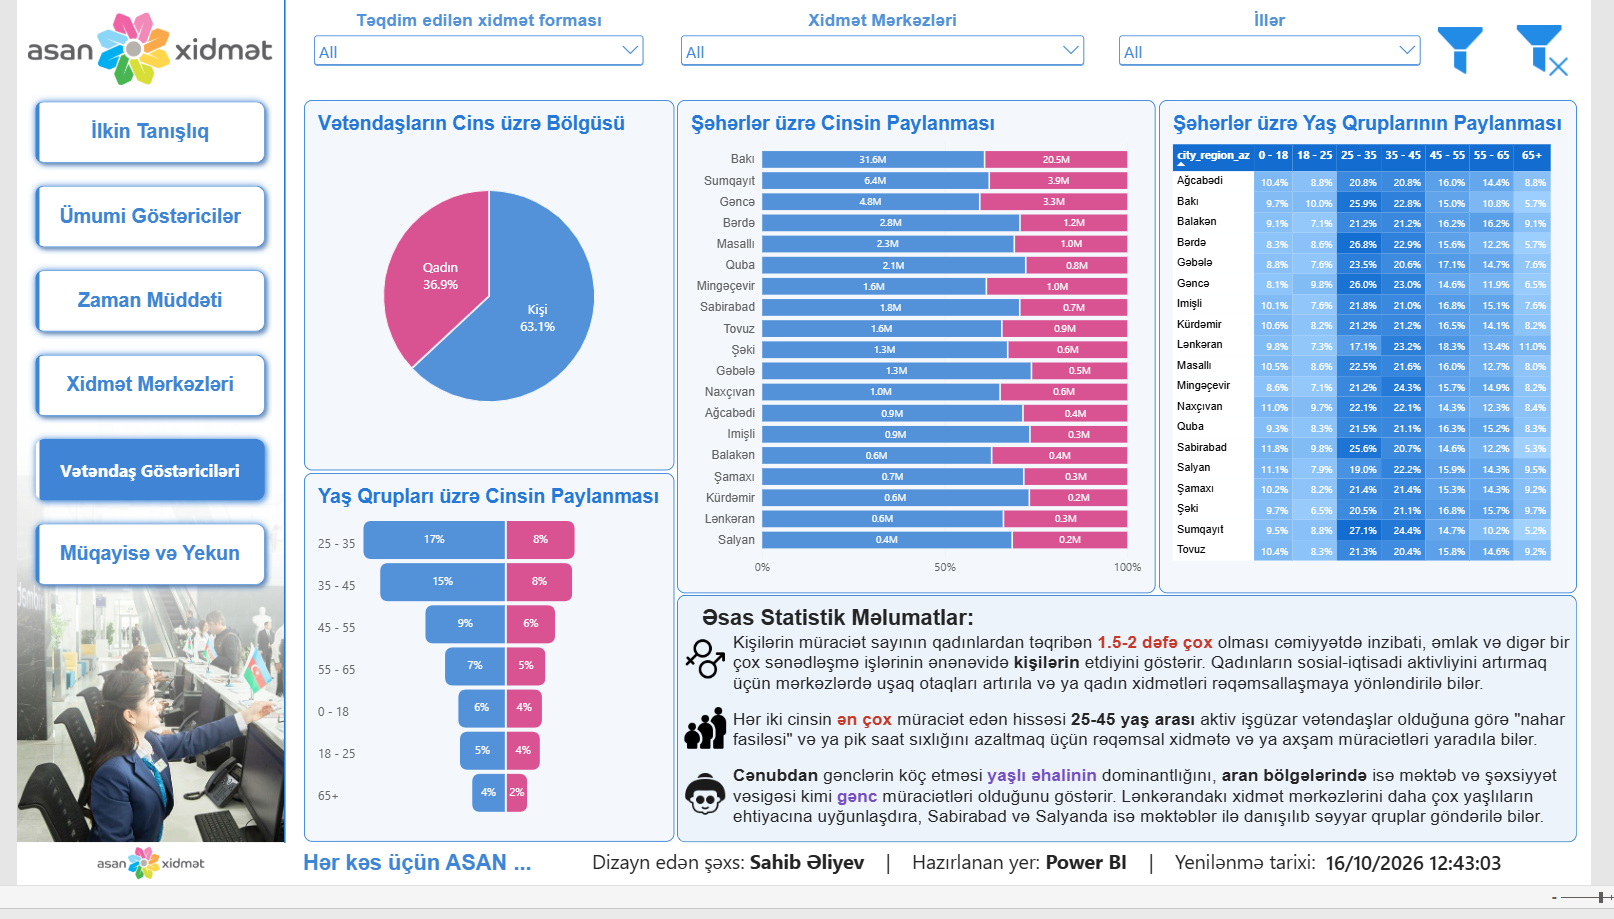

The page's visual inventory and layout, read from the dashboard file:
{"tool":"powerbi","page":{"name":"Vətəndaş Göstəriciləri","canvas":[1920,1080],"ordinal":4},"visuals":[{"type":"image","box":[0,396,326.1,632.6],"z":0},{"type":"image","box":[0,204,326,738],"z":1000},{"type":"shape","box":[315.7,0,21.4,1028.6],"z":2000},{"type":"image","box":[14,8,298,102],"z":3000},{"type":"image","box":[58.6,1031.4,210,42.9],"z":4000},{"type":"shape","box":[805.2,725.9,1098.3,301.7],"z":5000},{"type":"textbox","box":[836.1,738.3,378,32],"z":6000},{"type":"pieChart","title":"Vətəndaşların Cins üzrə Bölgüsü","fields":{"Category":["Fact_Demographic.gender"],"Y":["Ölçülər.Cinsə göre Müraciət Sayı"]},"box":[350,122.4,451.7,451.7],"z":7000},{"type":"TornadoChart1452517688218","title":"Yaş Qrupları üzrə Cinsin Paylanması","fields":{"Category":["Fact_Demographic.age_group"],"Values":["Sum(Fact_Demographic.percentage)"],"Series":["Fact_Demographic.gender"]},"box":[350,577.6,451.7,450],"z":8000},{"type":"hundredPercentStackedBarChart","title":"Şəhərlər üzrə Cinsin Paylanması","fields":{"Category":["Dim_Branch.city_region_az"],"Series":["Fact_Demographic.gender"],"Y":["Ölçülər.Cinsə göre Müraciət Sayı"]},"box":[805.2,122.4,584.5,601.7],"z":9000},{"type":"textbox","box":[874.1,770.9,1022.5,242.5],"z":10000},{"type":"pivotTable","title":"Şəhərlər üzrə Yaş Qruplarının Paylanması","fields":{"Columns":["Fact_Demographic.age_group"],"Rows":["Dim_Branch.city_region_az"],"Values":["Ölçülər.Yaş Qrupu Sətir Faizi"]},"box":[1393.1,122.4,510.3,601.7],"z":11000},{"type":"slicer","title":"Təqdim edilən xidmət forması","fields":{"Values":["Fact_Main.service_type"]},"box":[358,12,412,84],"z":12000},{"type":"slicer","title":"Xidmət Mərkəzləri","fields":{"Values":["Dim_Branch.branch_name"]},"box":[806,12,502,84],"z":13000},{"type":"slicer","title":"İllər","fields":{"Values":["Dim_Date.date.Variation.Date Hierarchy.Year"]},"box":[1340,12,378,84],"z":14000},{"type":"pageNavigator","box":[13,114.7,298.7,610.3],"z":15000},{"type":"image","box":[805.3,778.2,68.8,50.7],"z":16000},{"type":"image","box":[805.3,863.2,68.8,50.7],"z":17000},{"type":"image","box":[805.3,942.8,68.8,50.7],"z":18000},{"type":"textbox","box":[348.6,1037.1,286,32],"z":19000},{"type":"image","box":[1718,30,86,62],"z":20000},{"type":"image","box":[1818,30,86,62],"z":21000},{"type":"textbox","box":[701.2,1034.5,900.3,36.8],"z":22000},{"type":"cardVisual","fields":{"Data":["Min(Yenilənmə Tarixi.Yenilənmə Tarixi)"]},"box":[1582,1036.6,320.3,32.5],"z":23000}]}

Visuals, with their boxes in screenshot pixels (x1, y1, x2, y2), scaled from the page's 1920x1080 canvas onto the 1614x919 screenshot:
image: [0, 337, 274, 875]
image: [0, 174, 274, 802]
shape: [265, 0, 283, 875]
image: [12, 7, 262, 94]
image: [49, 878, 226, 914]
shape: [677, 618, 1600, 874]
textbox: [703, 628, 1021, 655]
"Vətəndaşların Cins üzrə Bölgüsü" pieChart: [294, 104, 674, 489]
"Yaş Qrupları üzrə Cinsin Paylanması" TornadoChart1452517688218: [294, 491, 674, 874]
"Şəhərlər üzrə Cinsin Paylanması" hundredPercentStackedBarChart: [677, 104, 1168, 616]
textbox: [735, 656, 1594, 862]
"Şəhərlər üzrə Yaş Qruplarının Paylanması" pivotTable: [1171, 104, 1600, 616]
"Təqdim edilən xidmət forması" slicer: [301, 10, 647, 82]
"Xidmət Mərkəzləri" slicer: [678, 10, 1100, 82]
"İllər" slicer: [1126, 10, 1444, 82]
pageNavigator: [11, 98, 262, 617]
image: [677, 662, 735, 705]
image: [677, 735, 735, 778]
image: [677, 802, 735, 845]
textbox: [293, 882, 533, 910]
image: [1444, 26, 1516, 78]
image: [1528, 26, 1601, 78]
textbox: [589, 880, 1346, 912]
cardVisual - Min(Yenilənmə Tarixi.Yenilənmə Tarixi): [1330, 882, 1599, 910]
